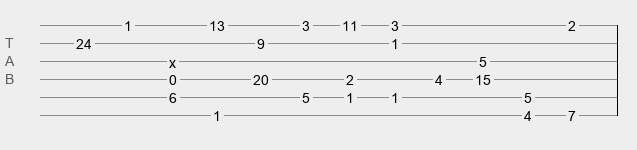0: (169, 72, 177, 82)
1: (124, 18, 132, 28), (213, 108, 221, 118), (346, 90, 354, 100), (391, 90, 399, 100), (391, 36, 399, 46)
11: (342, 18, 358, 28)
13: (209, 18, 225, 28)
15: (475, 72, 491, 82)
2: (346, 72, 354, 82), (568, 18, 576, 28)
20: (253, 72, 269, 82)
24: (76, 36, 92, 46)
3: (302, 18, 310, 28), (391, 18, 399, 28)
4: (435, 72, 443, 82), (524, 108, 532, 118)
5: (302, 90, 310, 100), (479, 54, 487, 64), (524, 90, 532, 100)
6: (169, 90, 177, 100)
7: (568, 108, 576, 118)
9: (257, 36, 265, 46)
x: (169, 55, 176, 63)
